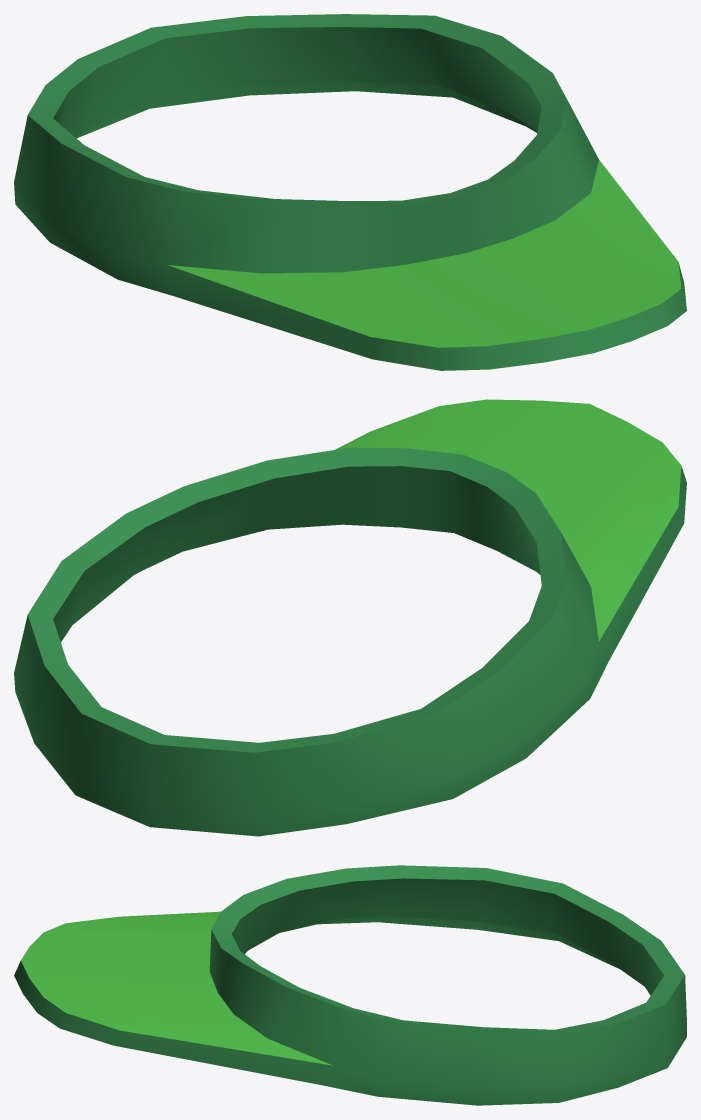
The model's file is CapOpen.fbx.
3 views of the same model, one above another, from view 1: azimuth 30°, elevation 25°; view 2: azimuth 150°, elevation 25°; view 3: azimuth 270°, elevation 25° (orthographic). The views are drawn at different scales.
Visible parts, largest first — view 1: CapOpen; view 2: CapOpen; view 3: CapOpen.
Boxes of the visible parts, left/top/right/bottom form: CapOpen: left=14, top=14, right=686, bottom=370; CapOpen: left=14, top=399, right=686, bottom=836; CapOpen: left=14, top=865, right=686, bottom=1105.
Size of the model in its own units: 15.82 by 25.45 by 4.5.
